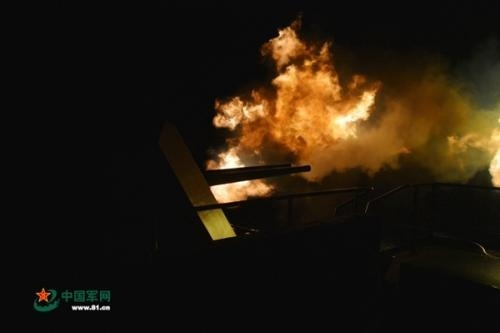fire: (210, 24, 379, 176)
